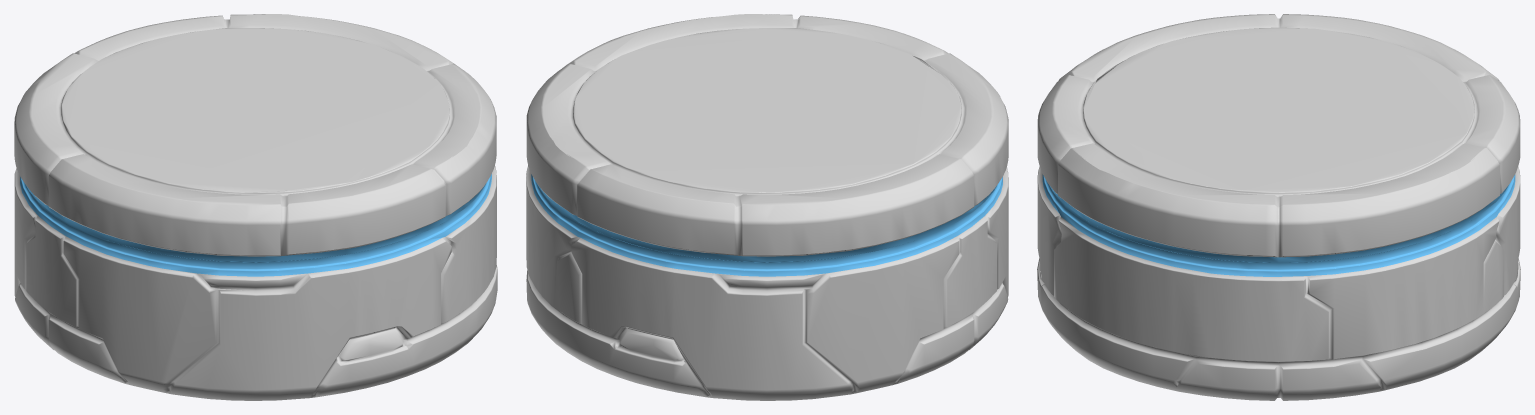
3 renders of one model, left to right at view 1: azimuth 30°, elevation 25°; view 2: azimuth 150°, elevation 25°; view 3: azimuth 270°, elevation 25°, orthographic.
Parts seen in each view (by area): view 1: material; view 2: material; view 3: material.
Part boxes in pixels (x1=…): material: x1=14, y1=14, x2=497, y2=400; material: x1=526, y1=14, x2=1008, y2=400; material: x1=1037, y1=14, x2=1520, y2=400.
Bounding box in the file's own units: 190 × 86.21 × 190.
